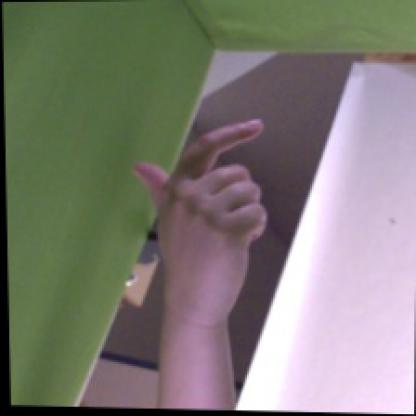Hand: (134, 119, 267, 321)
